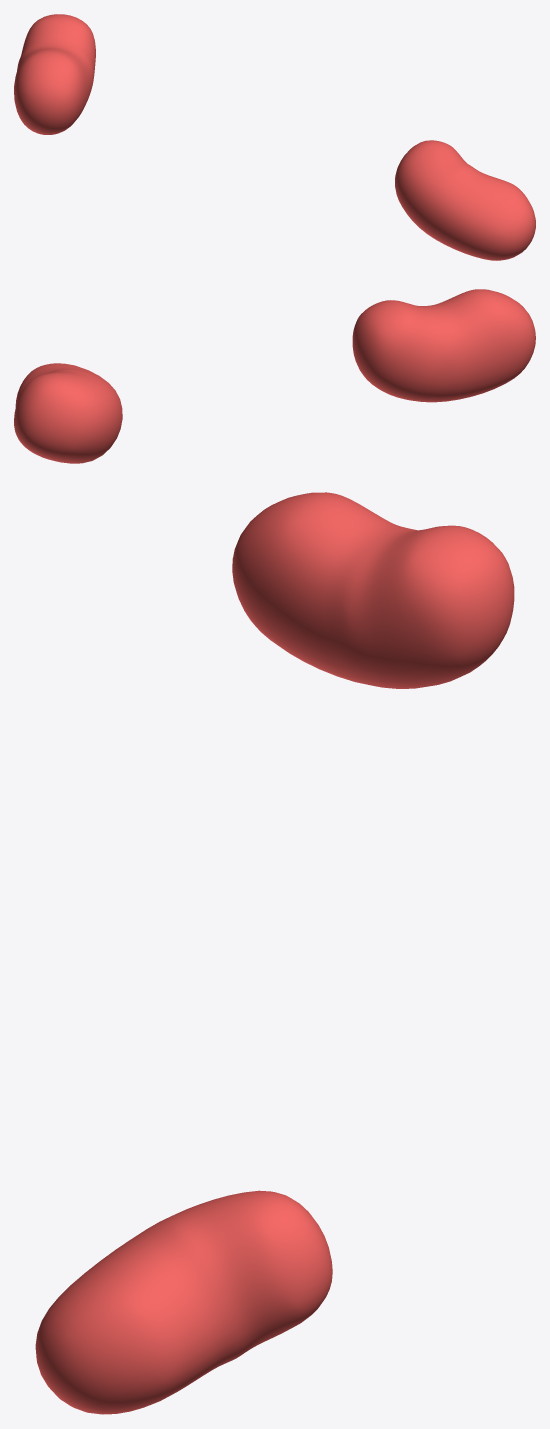
File: jellybean red.obj
3 views of the same model, one above another, from view 1: azimuth 30°, elevation 25°; view 2: azimuth 150°, elevation 25°; view 3: azimuth 270°, elevation 25° (orthographic). The views are drawn at different scales.
Visible parts, largest first — view 1: Cube; view 2: Cube; view 3: Cube.
Boxes of the visible parts, x1,y1,x2,y2 form: Cube: (14, 14, 535, 260); Cube: (14, 289, 535, 463); Cube: (35, 492, 514, 1414).
Bounding box in the file's own units: 0.1717 × 0.0927 × 0.0766.
1 material, 1 textured.
